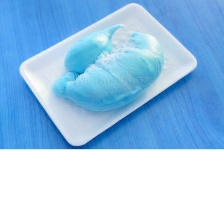foam_box: (14, 0, 200, 149)
